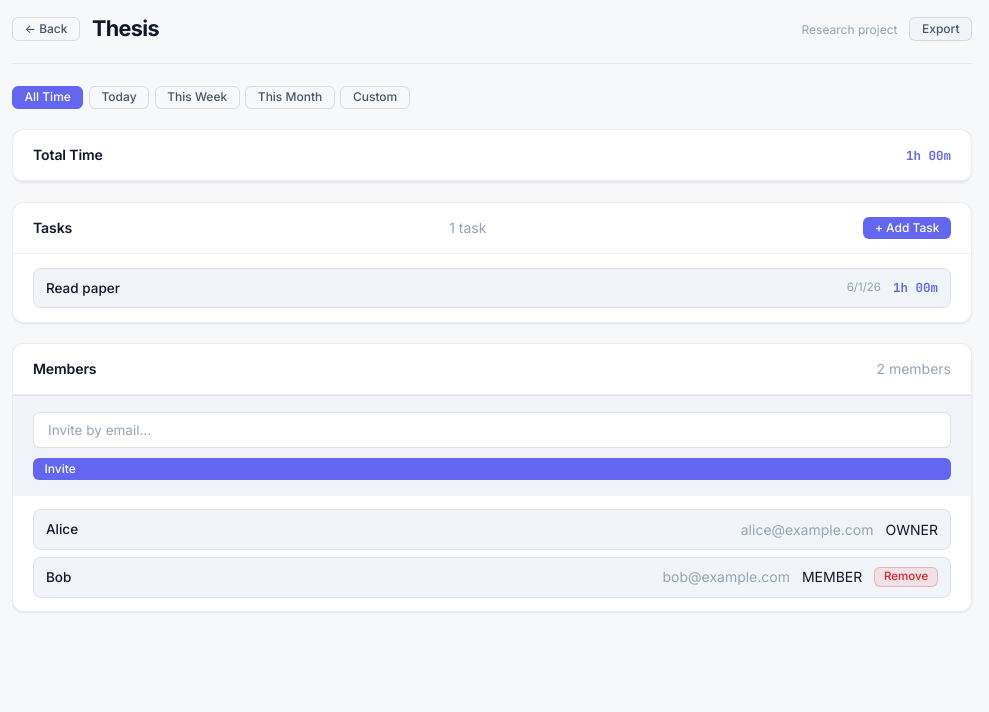
Test case: ProjectDetailPage › shows custom range form when Custom preset selected
Click the button with test id "preset-btn-custom" at (375, 98), box [340,86,410,109]
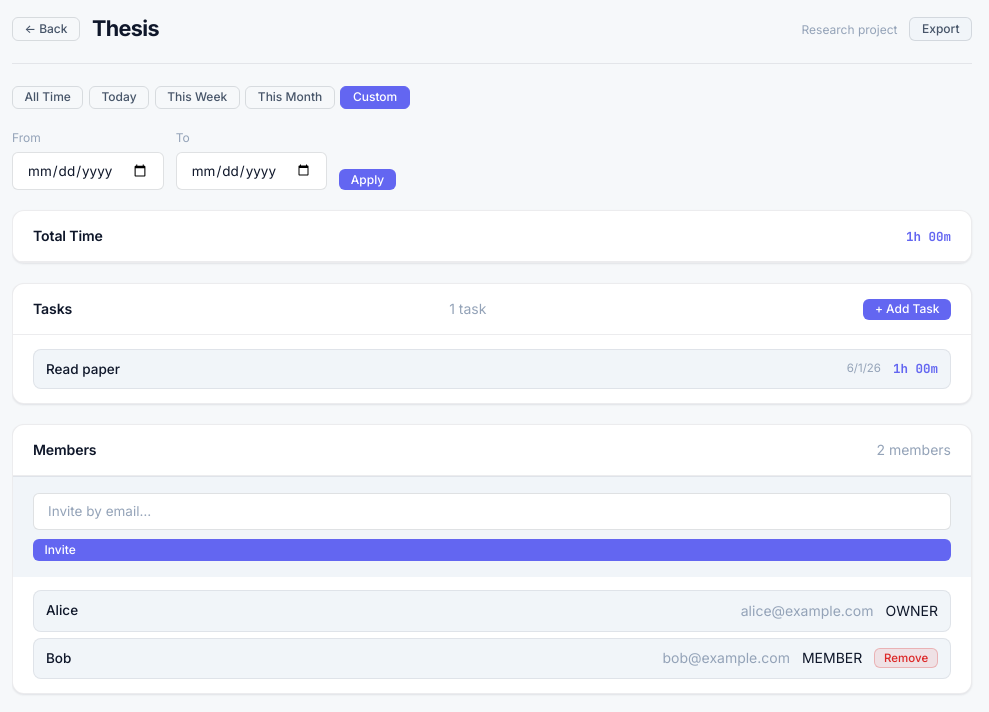
Expected: the date field with test id "custom-from" is shown, [12,152,164,190]
Expected: the date field with test id "custom-to" is shown, [176,152,327,190]
